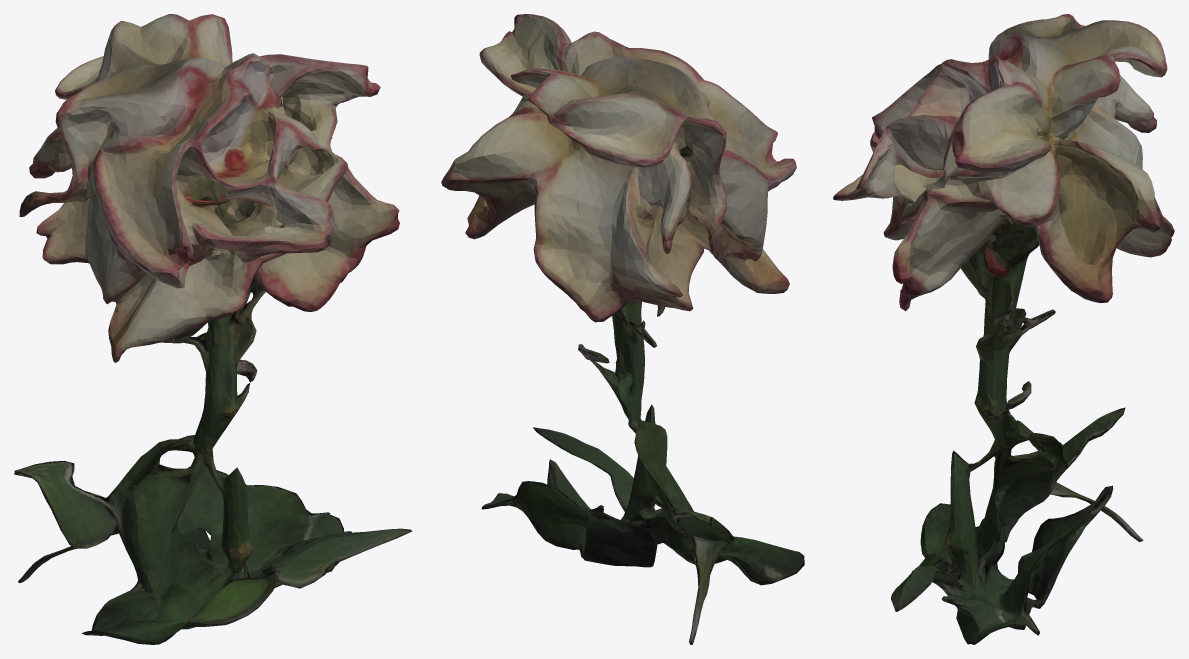
3 views of the same model, side by side, from view 1: azimuth 30°, elevation 25°; view 2: azimuth 150°, elevation 25°; view 3: azimuth 270°, elevation 25° (orthographic). The views are drawn at different scales.
Parts seen in each view (by area): view 1: world; view 2: world; view 3: world.
Boxes of the visible parts, x1,y1,x2,y2 form: world: (14,14,412,644); world: (441,14,804,644); world: (833,14,1174,644).
Bounding box in the file's own units: 0.5558 × 0.9373 × 0.512.
1 material, 1 textured.
